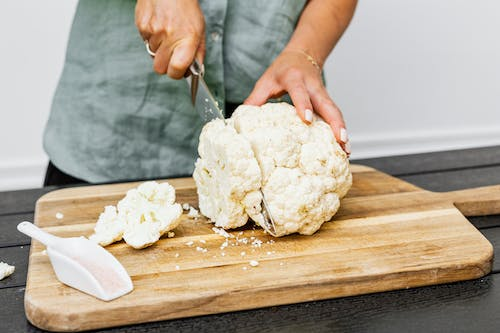knife: (182, 54, 278, 236)
